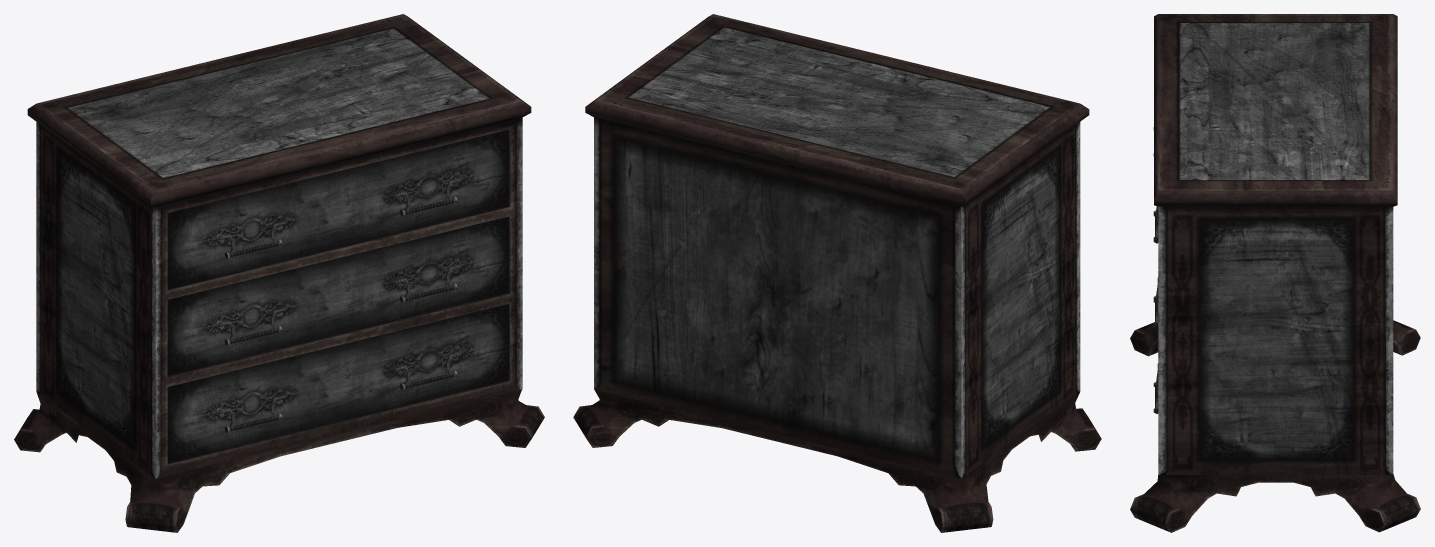
Rendered from chest_of_drawers_white.dae.
3 renders of one model, left to right at view 1: azimuth 30°, elevation 25°; view 2: azimuth 150°, elevation 25°; view 3: azimuth 270°, elevation 25°, orthographic.
Parts seen in each view (by area): view 1: pCube1, polySurface27, polySurface28, polySurface26, polySurface11; view 2: pCube1, polySurface11; view 3: pCube1, polySurface11.
Boxes of the visible parts, box(x1,y1,x2,y2) form: pCube1: box(27, 14, 531, 478); polySurface27: box(167, 130, 509, 289); polySurface28: box(167, 304, 509, 463); polySurface26: box(167, 216, 509, 375); polySurface11: box(14, 389, 544, 532); pCube1: box(585, 14, 1089, 478); polySurface11: box(573, 389, 1101, 532); pCube1: box(1154, 14, 1397, 474); polySurface11: box(1130, 320, 1420, 532).
Size of the model in its own units: 1.84 by 1.4 by 1.11.
